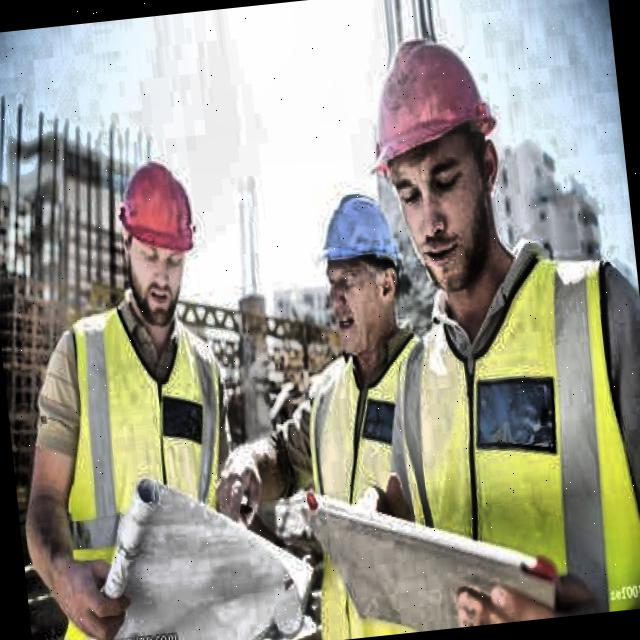helmet: (348, 10, 529, 301), (298, 168, 418, 373), (105, 145, 214, 334)
